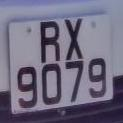0: (38, 60, 66, 108)
7: (62, 57, 89, 106)
9: (14, 60, 41, 113), (85, 54, 112, 102)
R: (35, 15, 65, 66)
X: (62, 13, 89, 63)
